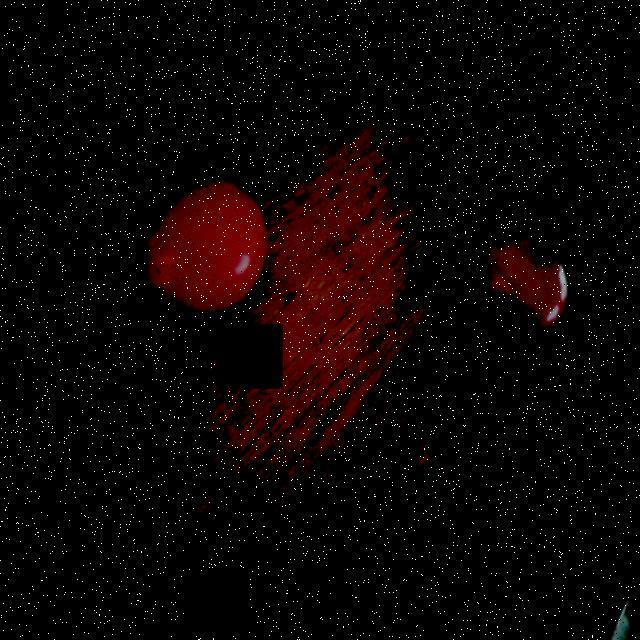egg: (132, 165, 274, 329), (462, 220, 568, 351)
